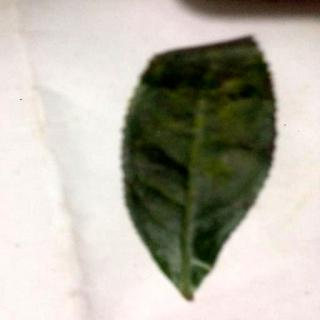Red Leaf Spot: (124, 44, 277, 300)
